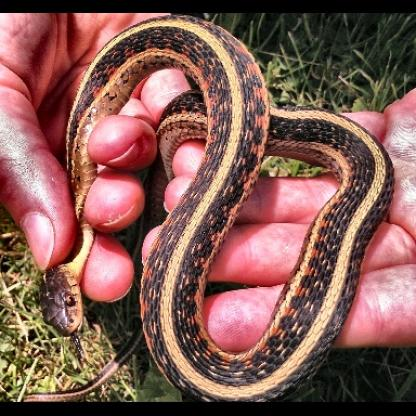Snake: (52, 13, 388, 401)
